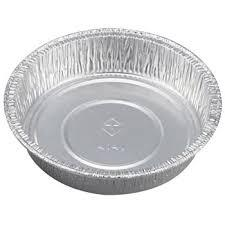metal: (2, 26, 225, 197)
